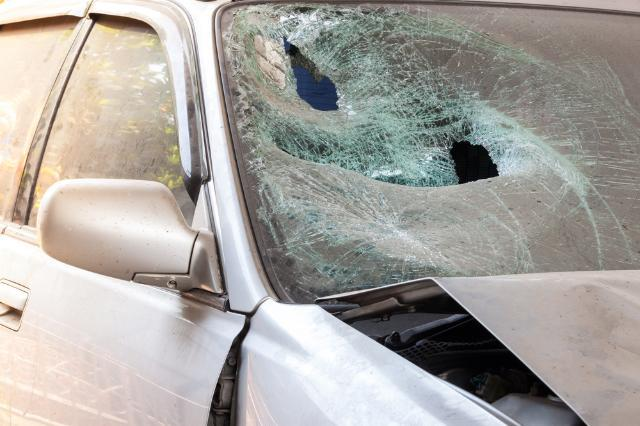dent: (566, 283, 640, 386)
dislocated part: (306, 264, 600, 426), (210, 303, 504, 426)
glass shatter: (221, 1, 640, 304)
scratch: (0, 324, 203, 426)
